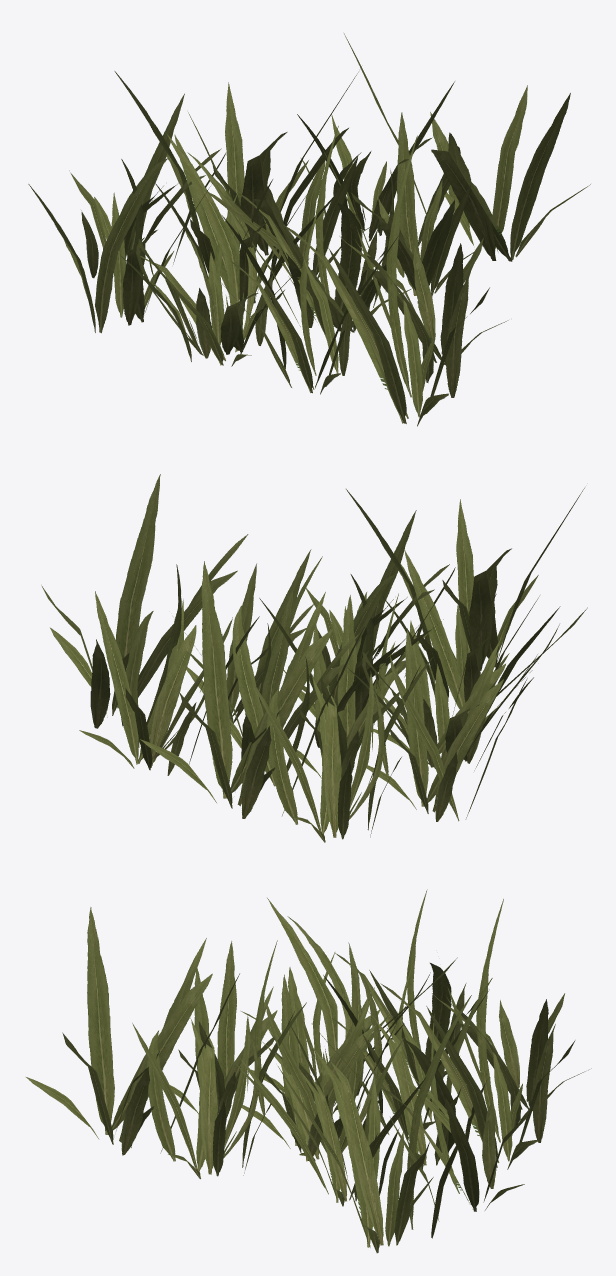
File: grass.fbx
3 views of the same model, one above another, from view 1: azimuth 30°, elevation 25°; view 2: azimuth 150°, elevation 25°; view 3: azimuth 270°, elevation 25° (orthographic). The views are drawn at different scales.
Visible parts, largest first — view 1: LowPoly_Grass; view 2: LowPoly_Grass; view 3: LowPoly_Grass.
Part boxes in pixels (left/top/right/bottom): LowPoly_Grass: left=28, top=33, right=590, bottom=426; LowPoly_Grass: left=41, top=474, right=587, bottom=842; LowPoly_Grass: left=26, top=889, right=591, bottom=1253.
Bounding box in the file's own units: 222 × 90.02 × 221.
